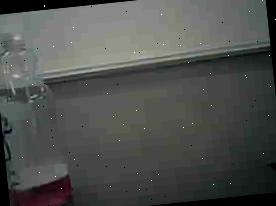hazard: (0, 7, 82, 206)
